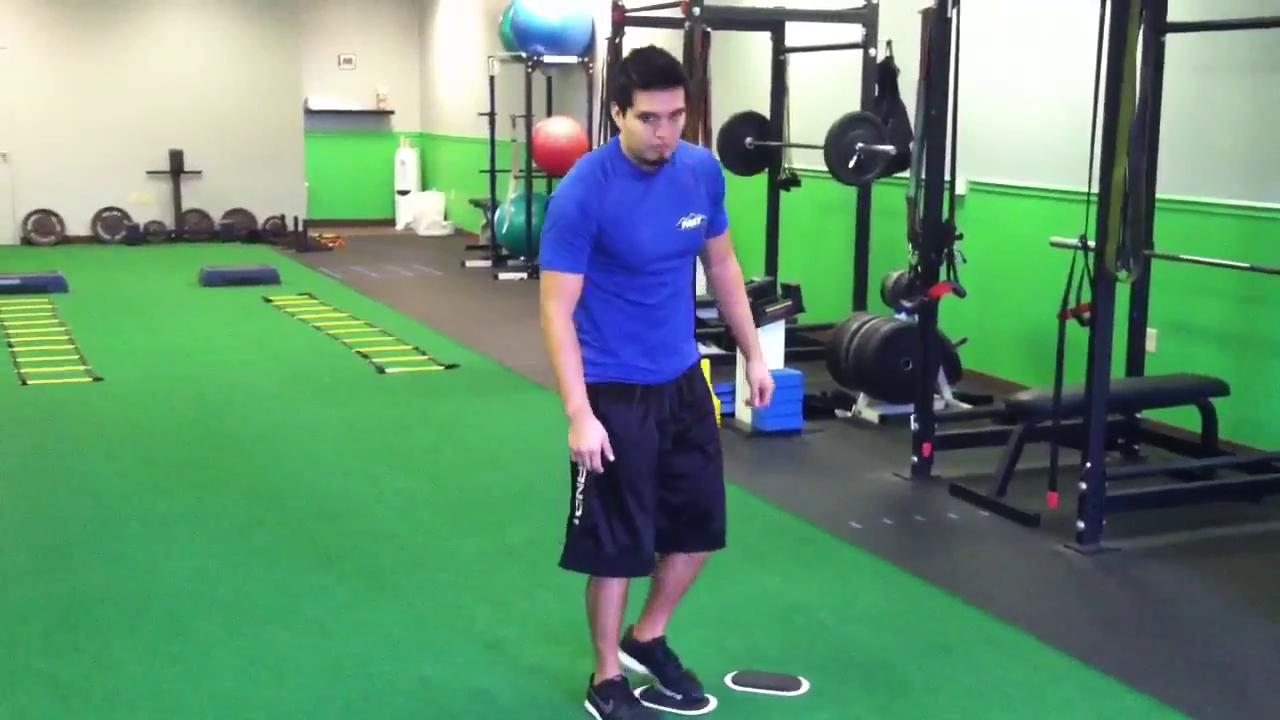person: (539, 45, 774, 720)
